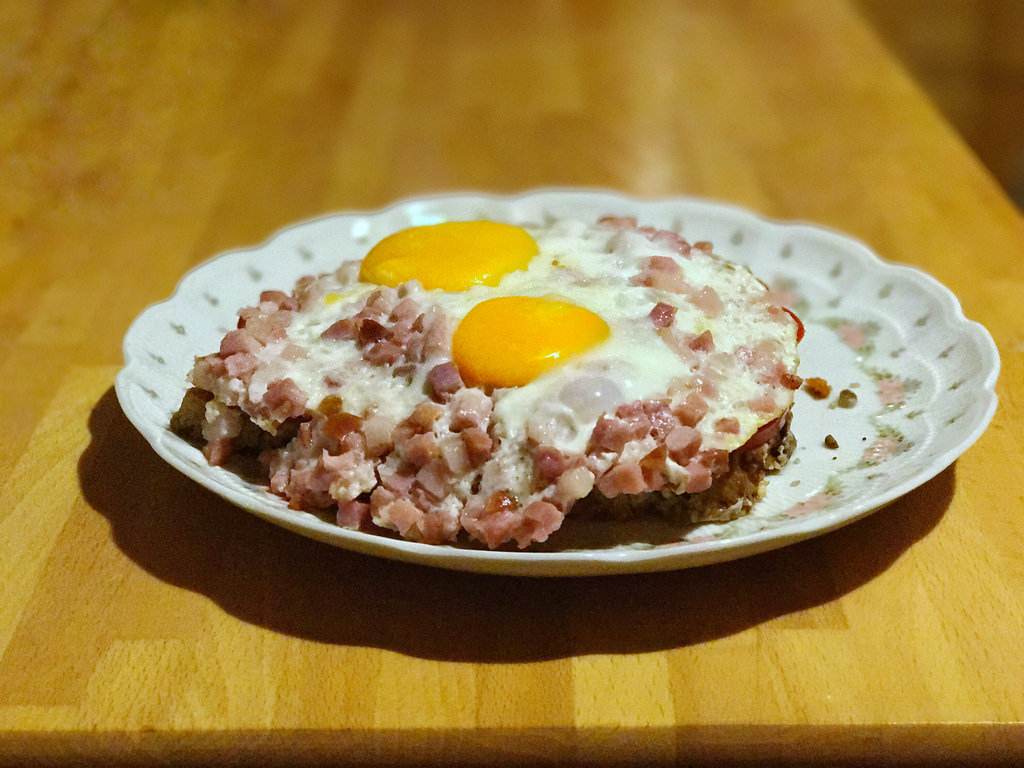fried egg: (350, 209, 660, 414)
